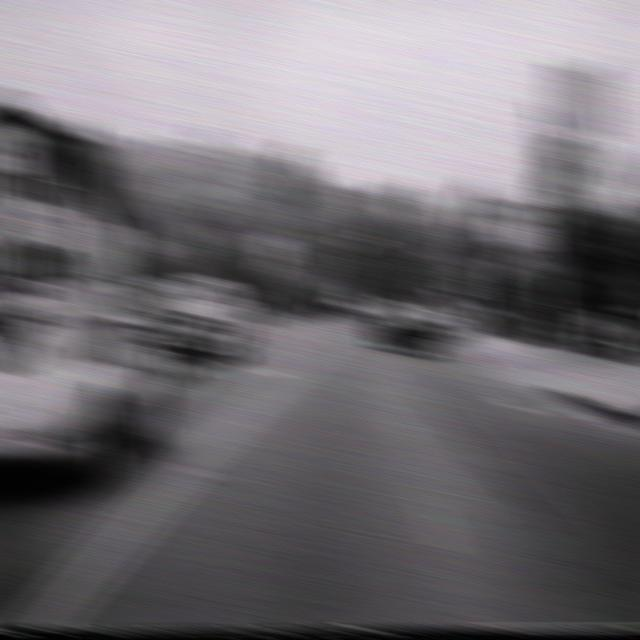speedLimit35: (486, 261, 511, 286)
